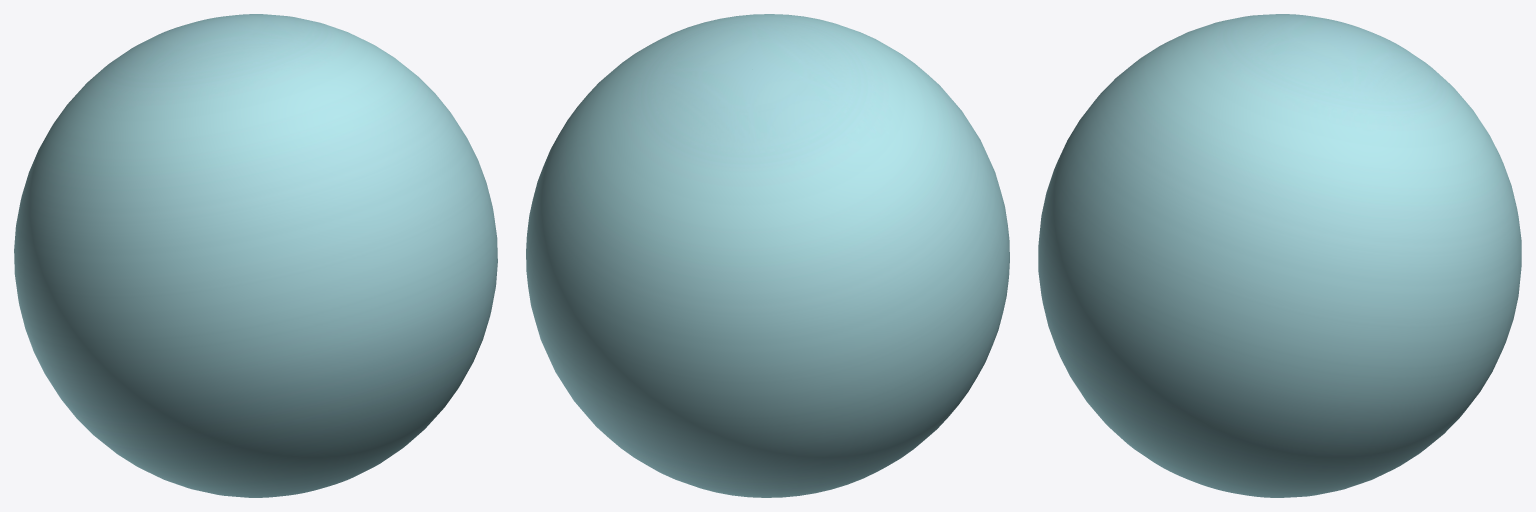
Rendered from uranus.glb.
3 renders of one model, left to right at view 1: azimuth 30°, elevation 25°; view 2: azimuth 150°, elevation 25°; view 3: azimuth 270°, elevation 25°, orthographic.
Parts seen in each view (by area): view 1: uranus; view 2: uranus; view 3: uranus.
Boxes of the visible parts, left/top/right/bottom form: uranus: left=14, top=14, right=497, bottom=497; uranus: left=526, top=14, right=1009, bottom=497; uranus: left=1038, top=14, right=1521, bottom=497.
Size of the model in its own units: 0.0165 by 0.0164 by 0.0164.
1 material, 1 textured.
